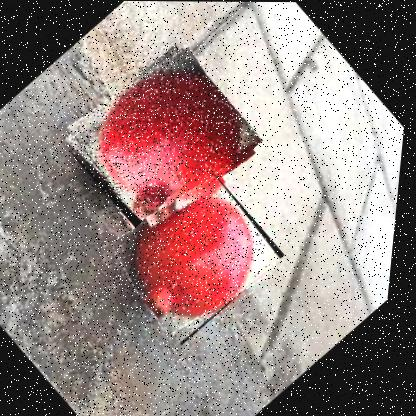pomegranate: (55, 37, 274, 243), (102, 164, 298, 347)
